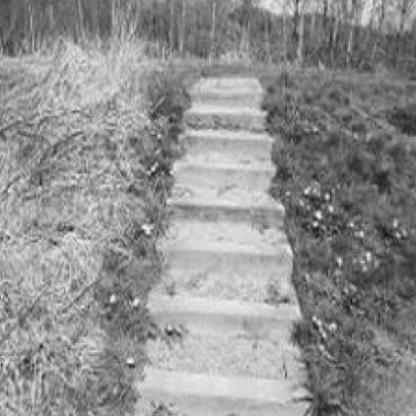stair_up: (125, 159, 324, 406)
